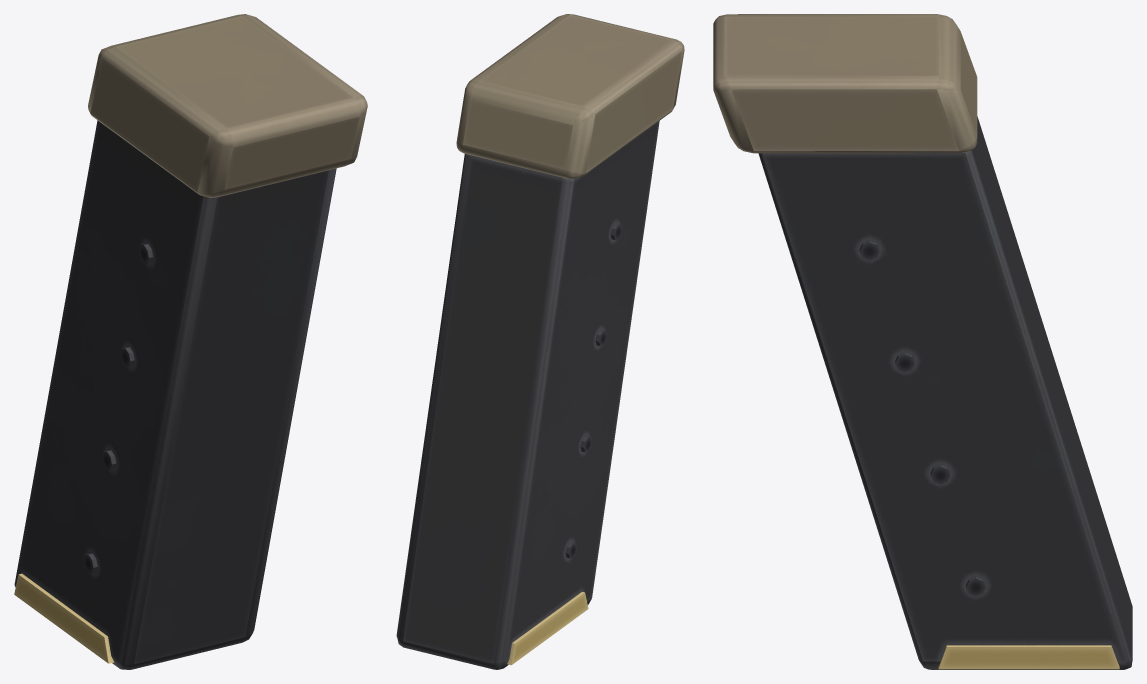
Rendered from AT_FNPRMag.fbx.
The picture shows the model from 3 angles, left to right: view 1: azimuth 30°, elevation 25°; view 2: azimuth 150°, elevation 25°; view 3: azimuth 270°, elevation 25°; orthographic projection. The views are drawn at different scales.
Parts seen in each view (by area): view 1: AT_FNPRMag_export; view 2: AT_FNPRMag_export; view 3: AT_FNPRMag_export.
Part boxes in pixels (x1,y1,x2,y2): AT_FNPRMag_export: (14, 14, 367, 669); AT_FNPRMag_export: (396, 14, 684, 669); AT_FNPRMag_export: (713, 14, 1132, 669).
Size of the model in its own units: 0.021 by 0.0509 by 0.08.
